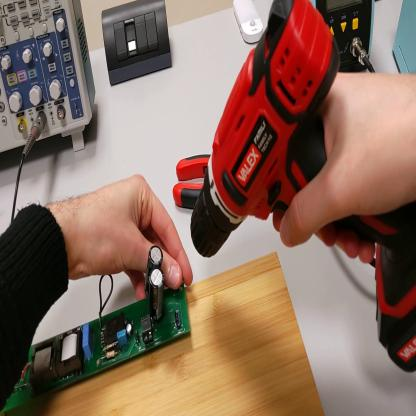electric screwdriver: (192, 3, 415, 373)
hand: (277, 63, 416, 262), (70, 175, 195, 300)
high voltage board: (2, 246, 192, 412)
oscilloscope: (1, 3, 98, 160)
pliers: (172, 152, 211, 212)
welder base: (394, 6, 416, 76)
welder station: (318, 5, 377, 73)
working area: (1, 252, 325, 416)
